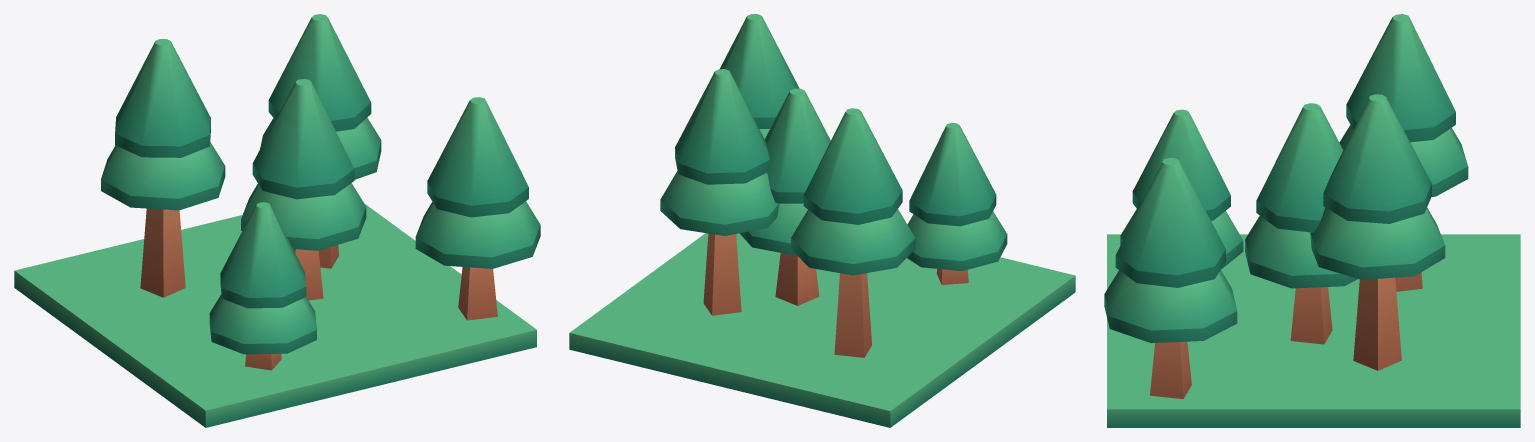
Rendered from ke_grass-trees-tall.glb.
The picture shows the model from 3 angles, left to right: view 1: azimuth 30°, elevation 25°; view 2: azimuth 150°, elevation 25°; view 3: azimuth 270°, elevation 25°; orthographic projection. The views are drawn at different scales.
Visible parts, largest first — view 1: grass-trees-tall; view 2: grass-trees-tall; view 3: grass-trees-tall.
Part boxes in pixels (<box>): grass-trees-tall: <box>14,14,540,427</box>; grass-trees-tall: <box>569,14,1075,427</box>; grass-trees-tall: <box>1104,14,1520,427</box>.
Size of the model in its own units: 1.07 by 0.7596 by 1.01.
Materials: 1 (1 with a texture image).
